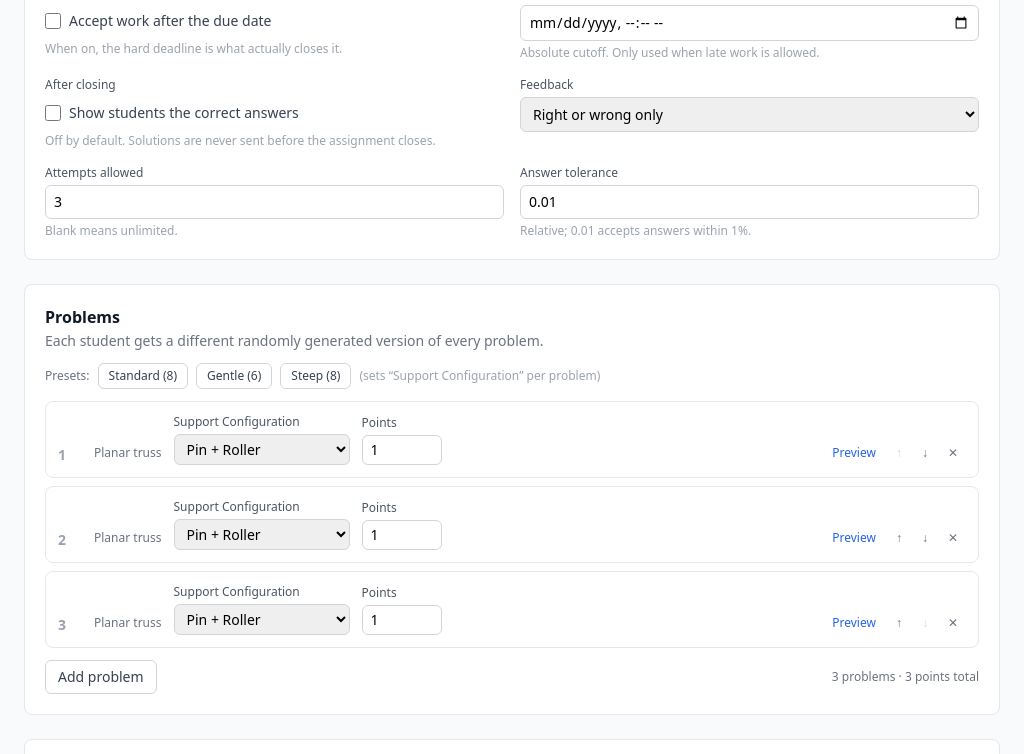
assignment builder › surfaces a stored choice value the catalogue no longer offers
The image size is (1024, 754).
(page scrolled)
Expected: the text "3 problems · 3 points total" is shown, [832,669,979,685]
Click the button "Standard (8)" at (143, 376), box [98,363,188,389]
(page scrolled)
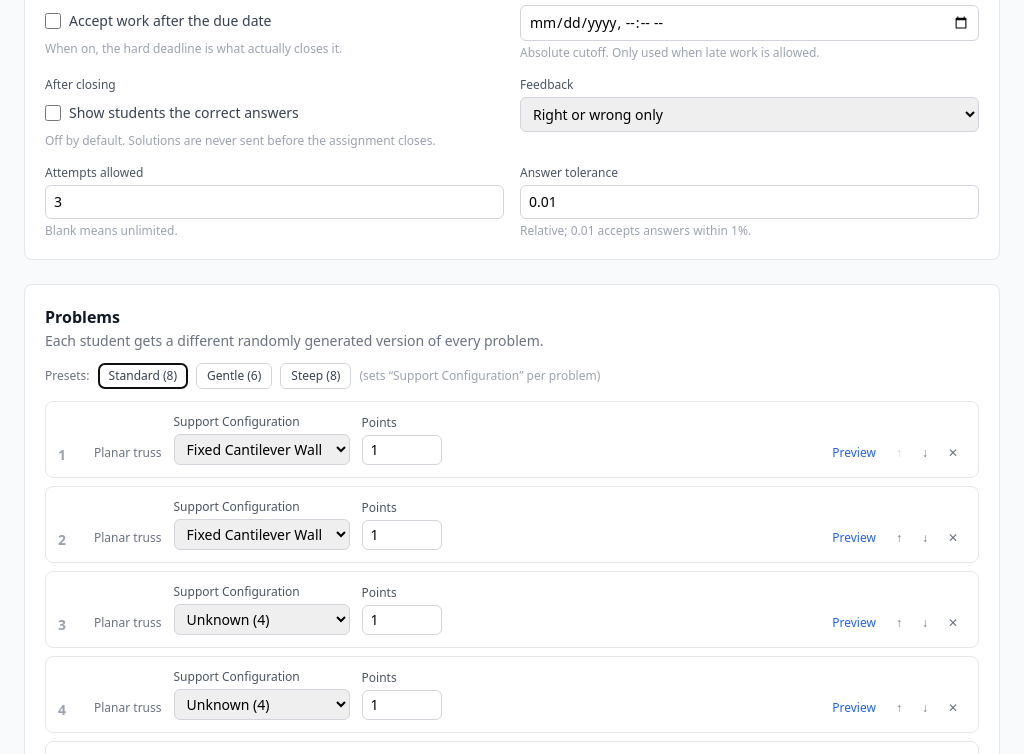
Expected: the 1st dropdown labelled "Support Configuration" shows "Fixed Cantilever Wall", [174,434,350,465]
Expected: the 3rd dropdown labelled "Support Configuration" shows "Unknown (4)", [174,604,350,635]
